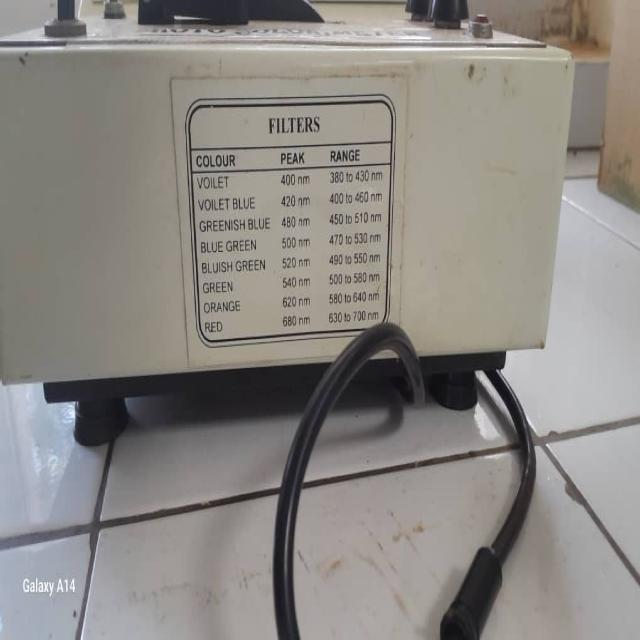Photocolorimeter: (33, 2, 570, 375)
